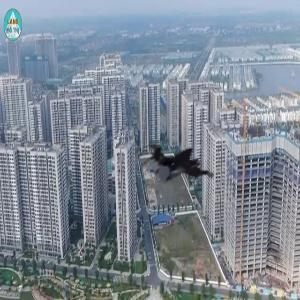drone: (144, 119, 226, 201)
